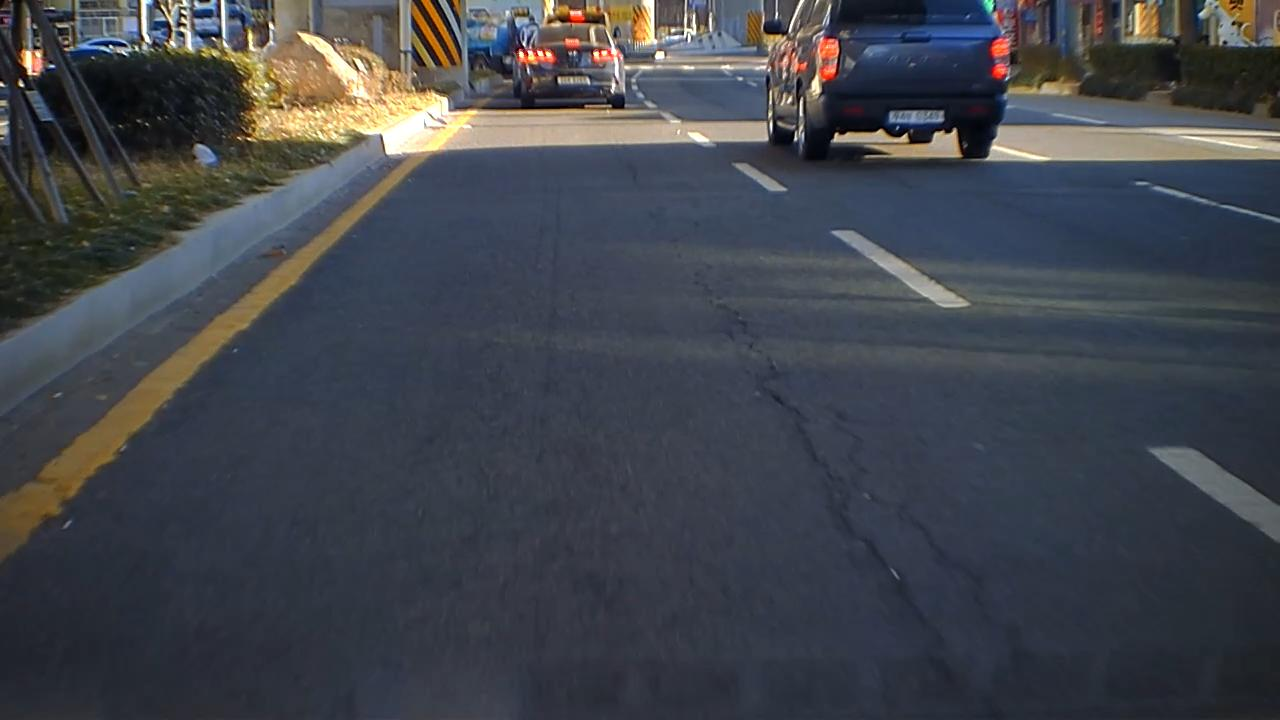banner: (798, 399, 987, 697), (667, 231, 781, 390)
